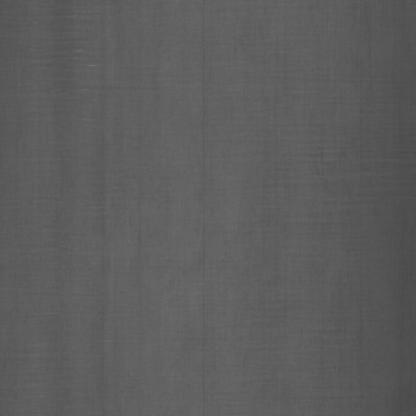waist_folding: (4, 16, 102, 389)
